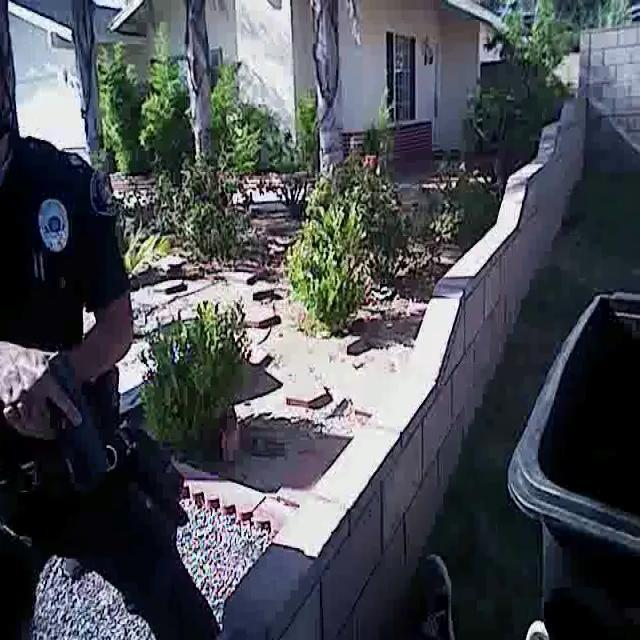gun: (12, 339, 162, 527)
